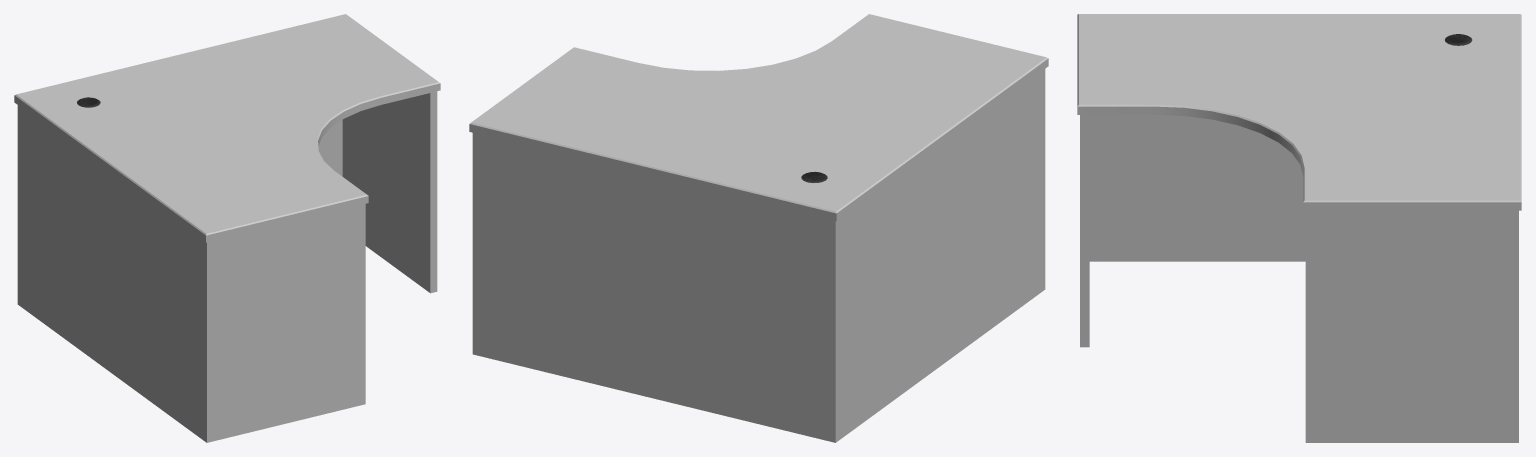
File: desk_corner.fbx
3 views of the same model, side by side, from view 1: azimuth 30°, elevation 25°; view 2: azimuth 150°, elevation 25°; view 3: azimuth 270°, elevation 25° (orthographic). The views are drawn at different scales.
Parts seen in each view (by area): view 1: CornerDesk; view 2: CornerDesk; view 3: CornerDesk.
Boxes of the visible parts, x1,y1,x2,y2 form: CornerDesk: (14, 14, 440, 442); CornerDesk: (469, 14, 1048, 442); CornerDesk: (1077, 14, 1521, 442).
Bounding box in the file's own units: 1.22 × 0.7405 × 1.22.
